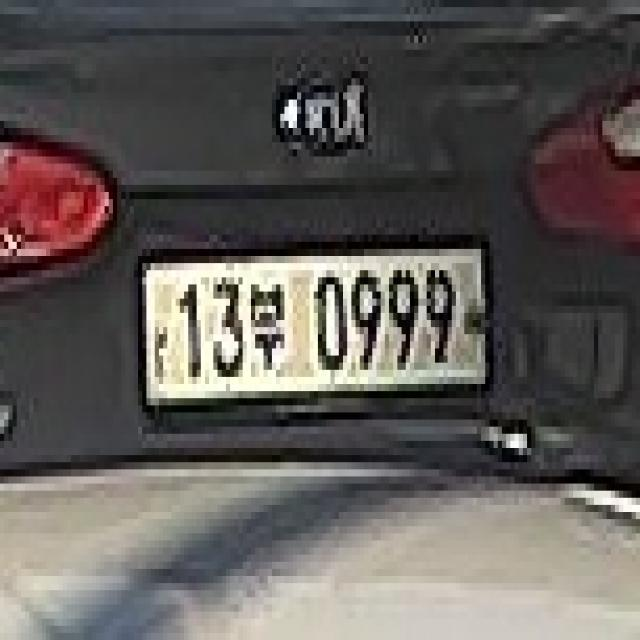0: (309, 270, 352, 384)
1: (172, 270, 209, 398)
3: (205, 270, 247, 391)
9: (423, 256, 460, 377), (385, 263, 422, 377), (351, 263, 385, 384)
bu: (246, 270, 288, 391)
license_plate: (130, 242, 498, 434)
